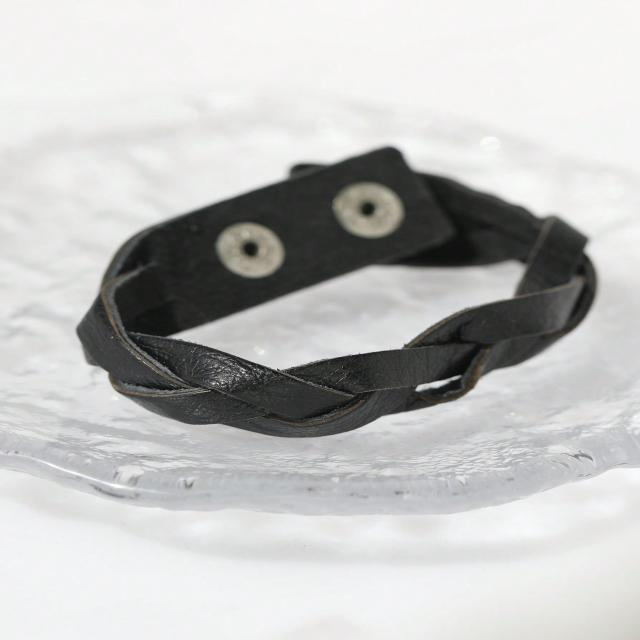bracelet: (40, 114, 640, 476)
